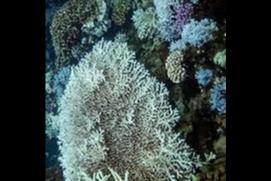bleached_corals: (56, 39, 207, 181)
